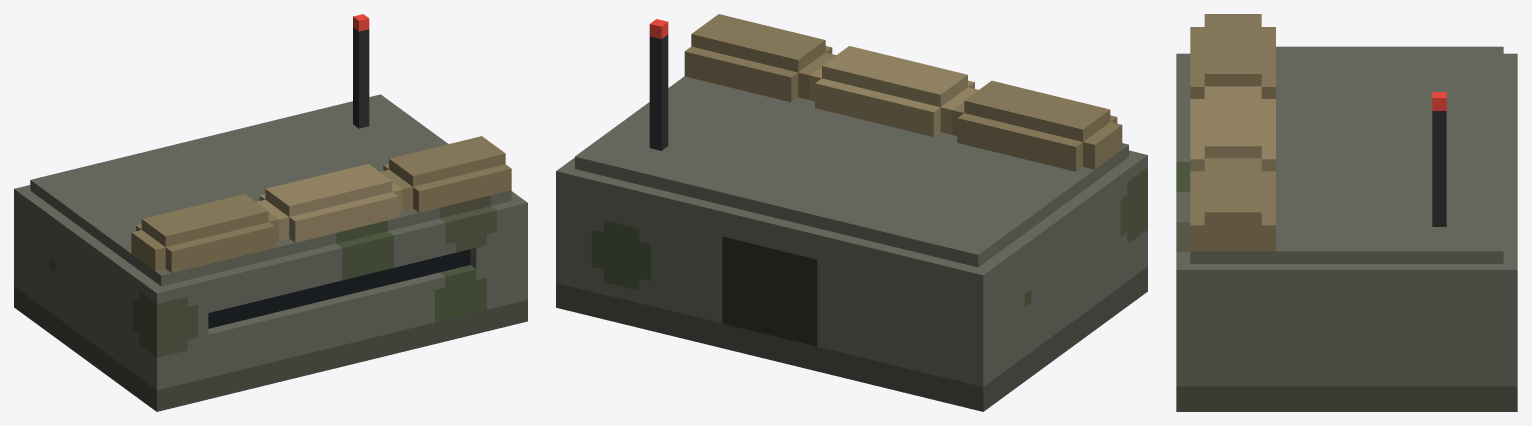
The model's file is prop_bunker.glb.
3 renders of one model, left to right at view 1: azimuth 30°, elevation 25°; view 2: azimuth 150°, elevation 25°; view 3: azimuth 270°, elevation 25°, orthographic. The views are drawn at different scales.
Visible parts, largest first — view 1: prop_bunker; view 2: prop_bunker; view 3: prop_bunker.
Part boxes in pixels (bbox=[...]): prop_bunker: bbox=[14, 14, 527, 411]; prop_bunker: bbox=[556, 14, 1147, 411]; prop_bunker: bbox=[1176, 14, 1517, 411].
Bounding box in the file's own units: 3.6 × 2.2 × 2.4.
